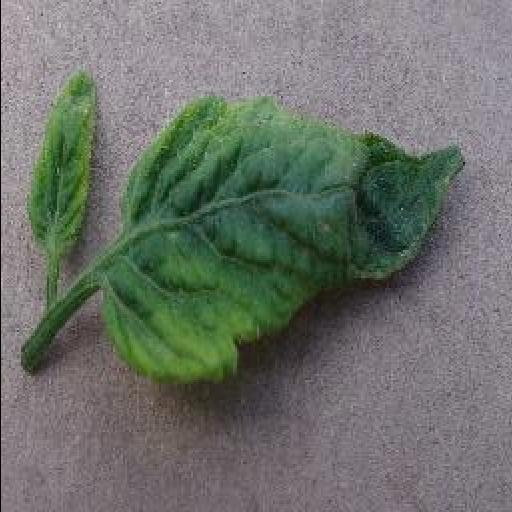disease_tomato: (100, 90, 466, 384), (26, 64, 96, 258)
